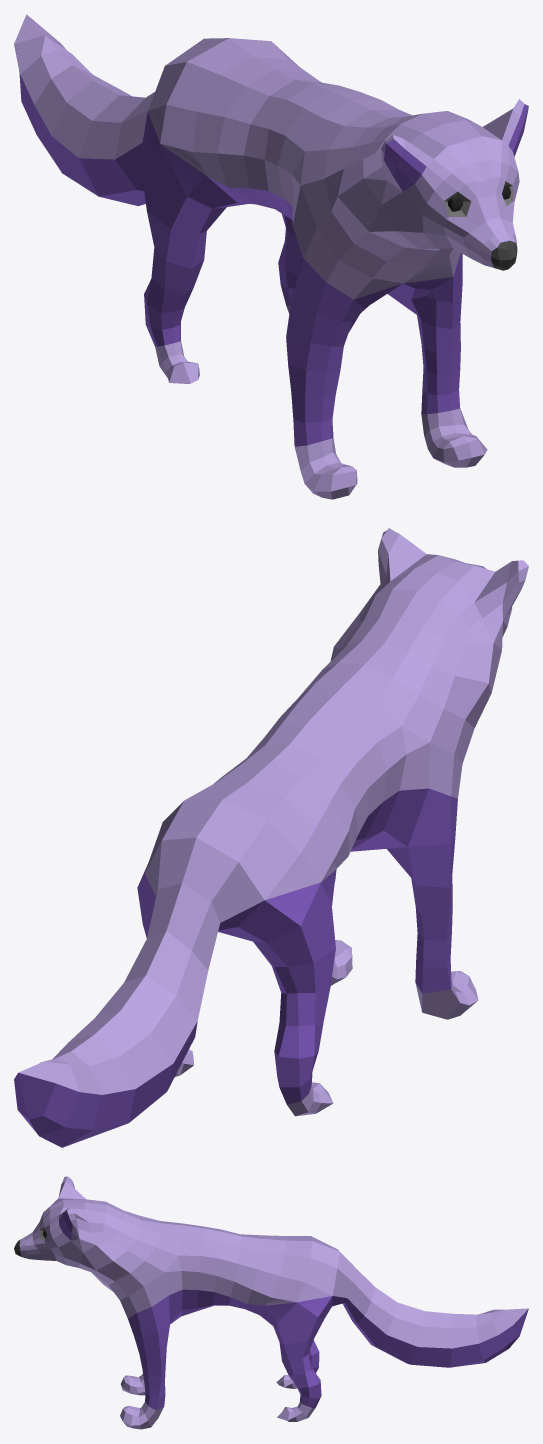
Rendered from animal_022.fbx.
The picture shows the model from 3 angles, top to bottom: view 1: azimuth 30°, elevation 25°; view 2: azimuth 150°, elevation 25°; view 3: azimuth 270°, elevation 25°; orthographic projection. The views are drawn at different scales.
Parts seen in each view (by area): view 1: animal.022; view 2: animal.022; view 3: animal.022.
Boxes of the visible parts, x1,y1,x2,y2 form: animal.022: (14, 14, 528, 499); animal.022: (14, 528, 528, 1147); animal.022: (14, 1176, 528, 1429).
Size of the model in its own units: 74.56 by 168 by 361.
Materials: 1 (1 with a texture image).
